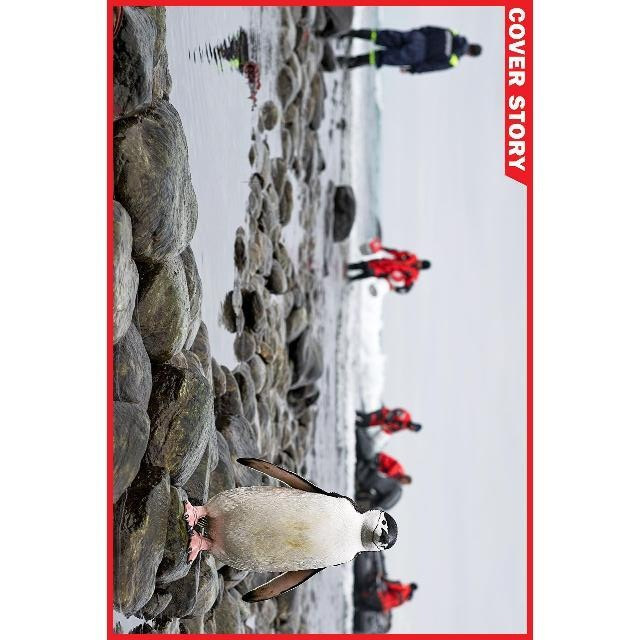penguin: (182, 456, 397, 603)
